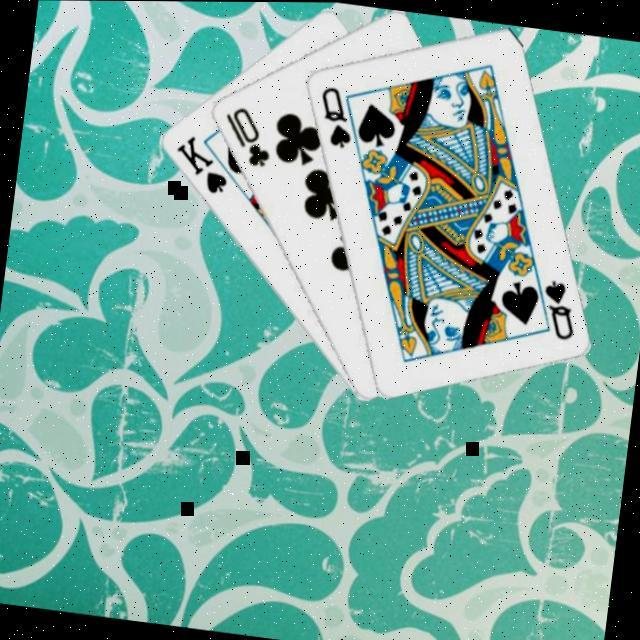10C: (216, 99, 279, 170)
KS: (168, 129, 236, 197)
QS: (312, 79, 362, 150), (535, 273, 583, 342)
